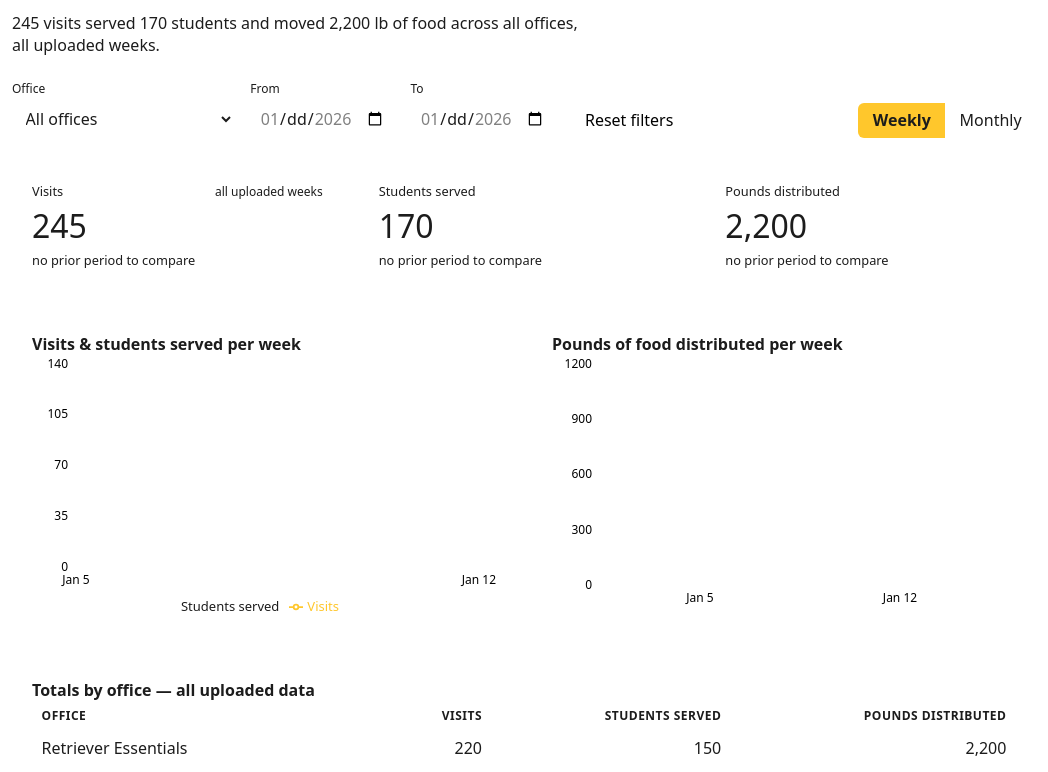
Dashboard › asks the API again when the office filter changes
Select "Emergency Aid Program" in the dropdown labelled "Office" at x=123, y=119, box [12,101,234,138]
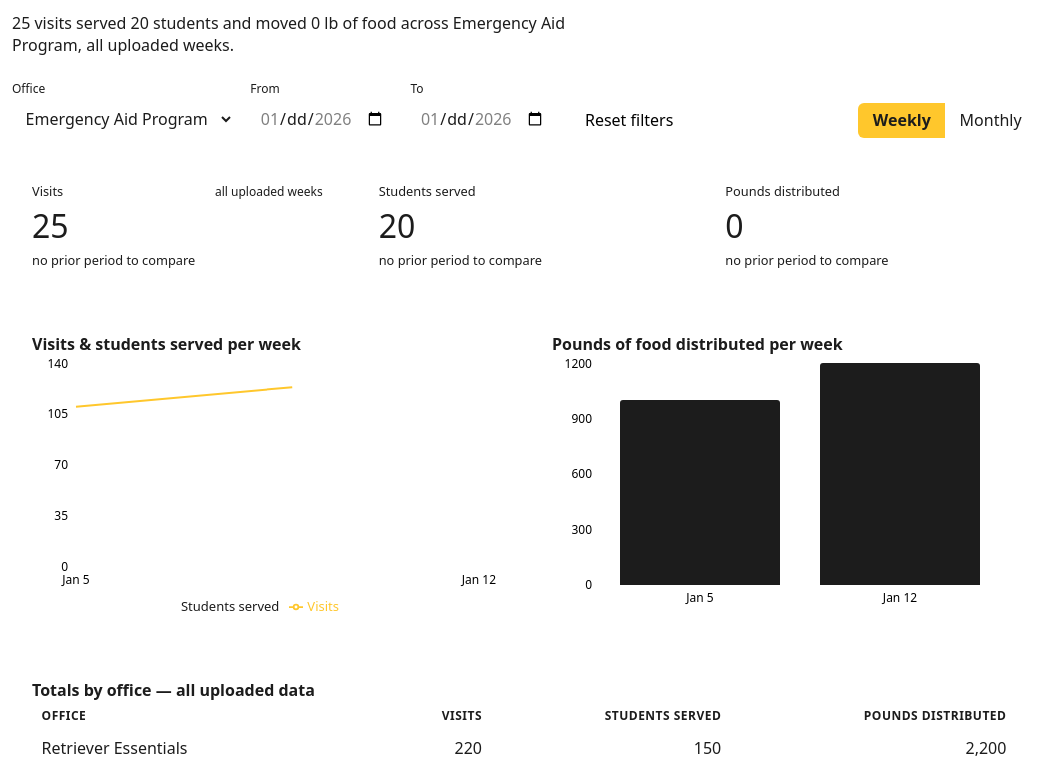
Expected: the text "across Emergency Aid Program" is shown, [12,12,565,56]
